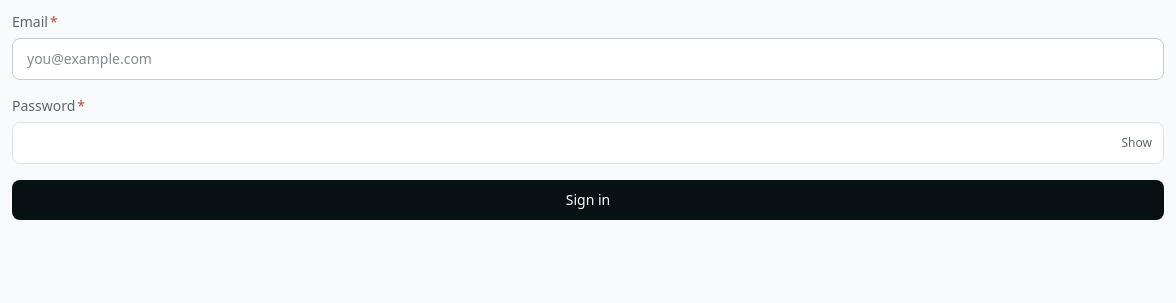
Test: LoginForm › shows the generic 401 when an account tries the other role’s path
The image size is (1176, 303).
Type "ada@example.com" into the field labelled "Email*" at (588, 59), box [12, 38, 1164, 80]
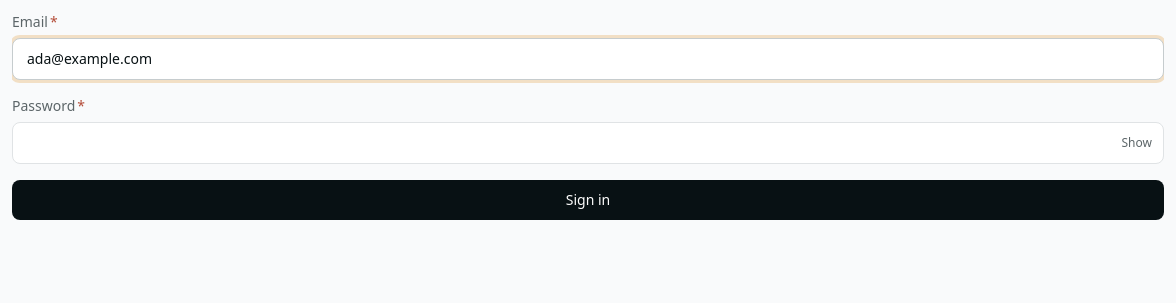
Type "Str0ng!pass" into the password field labelled "Password*" at (588, 143), box [12, 122, 1164, 164]
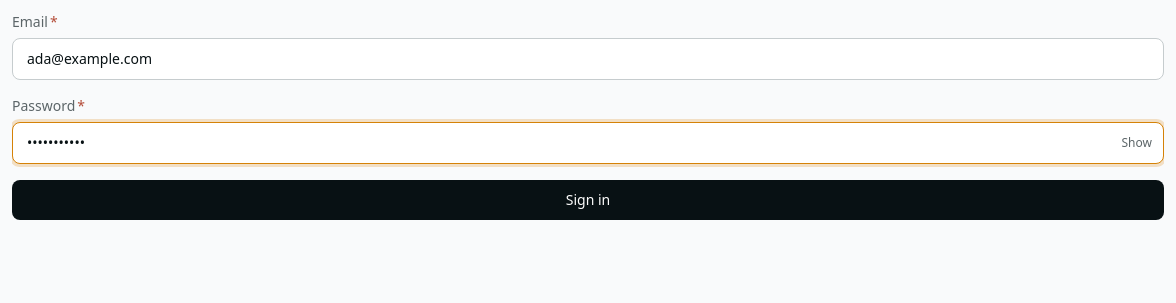
Click the button "Sign in" at (588, 200), box [12, 180, 1164, 220]
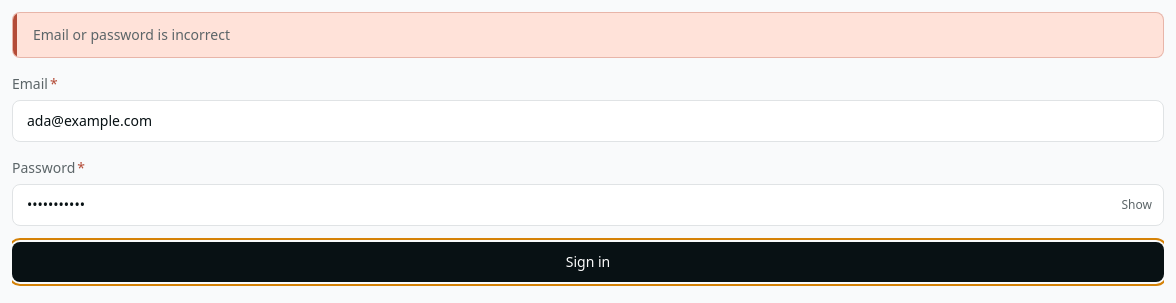
Expected: the message reads "Email or password is incorrect", [33, 25, 230, 44]
